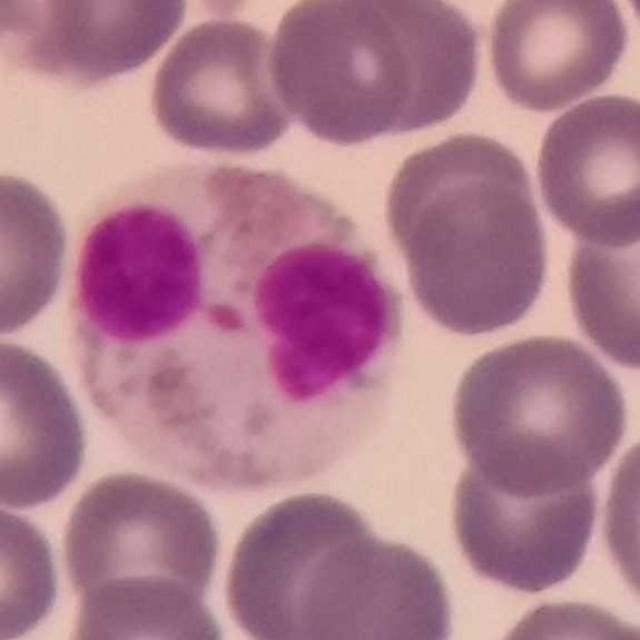eosino: (72, 157, 399, 495)
